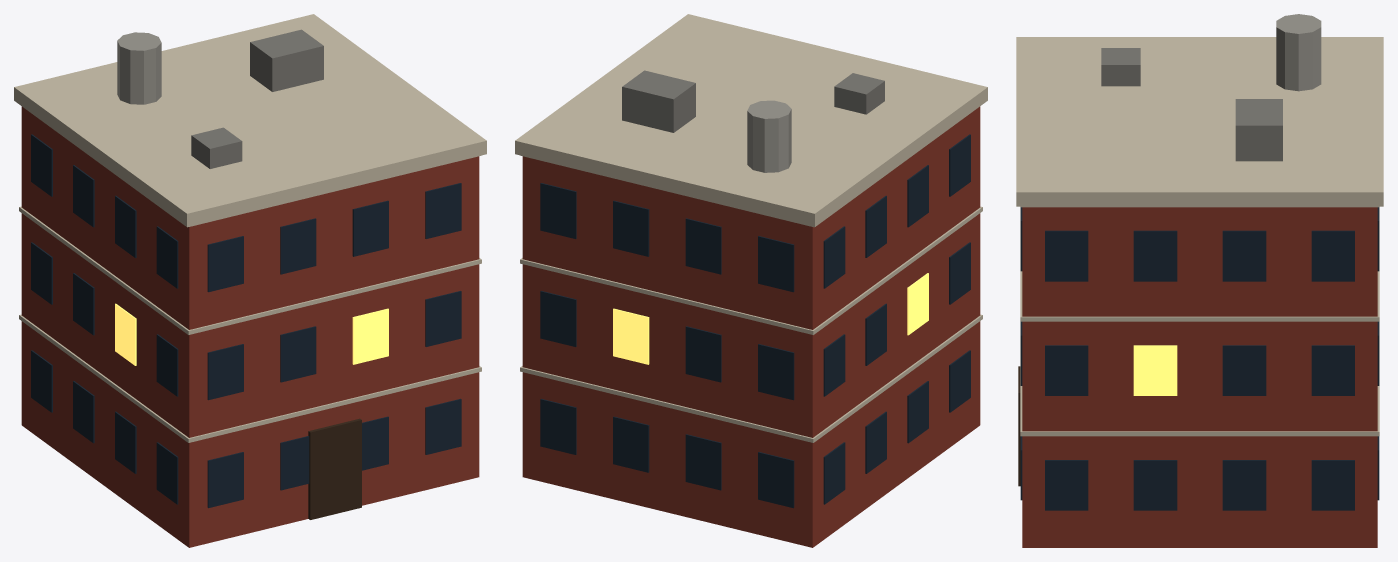
File: building_0.glb
3 views of the same model, side by side, from view 1: azimuth 30°, elevation 25°; view 2: azimuth 150°, elevation 25°; view 3: azimuth 270°, elevation 25° (orthographic). The views are drawn at different scales.
Visible parts, largest first — view 1: building_0; view 2: building_0; view 3: building_0.
Boxes of the visible parts, x1=… form: building_0: x1=14, y1=14, x2=486, y2=547; building_0: x1=515, y1=14, x2=987, y2=547; building_0: x1=1016, y1=14, x2=1383, y2=547.
Bounding box in the file's own units: 9.3 × 11.6 × 9.3.
